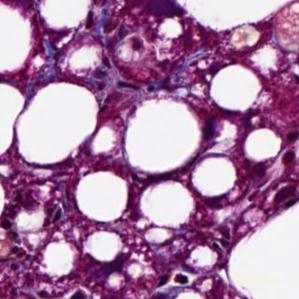inflammation: (21, 272, 97, 299), (150, 263, 196, 299)
